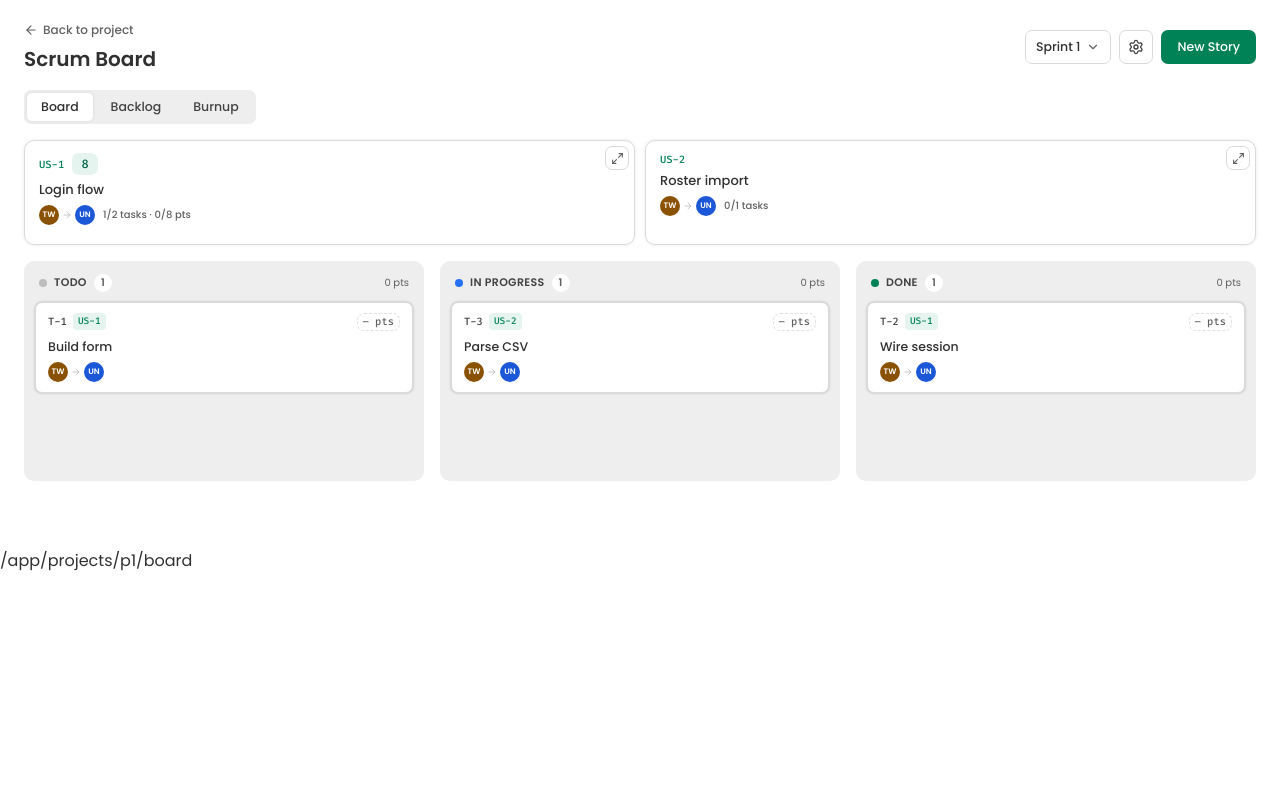
Test: ScrumBoardPage create story (F13) › opens the editor from the header button
This screenshot has width=1280, height=800.
Expected: the text "Login flow" is shown, x1=39 y1=181 x2=104 y2=198
Step 1. Click the button "New Story" → click(1209, 47), box x1=1162 y1=30 x2=1256 y2=64
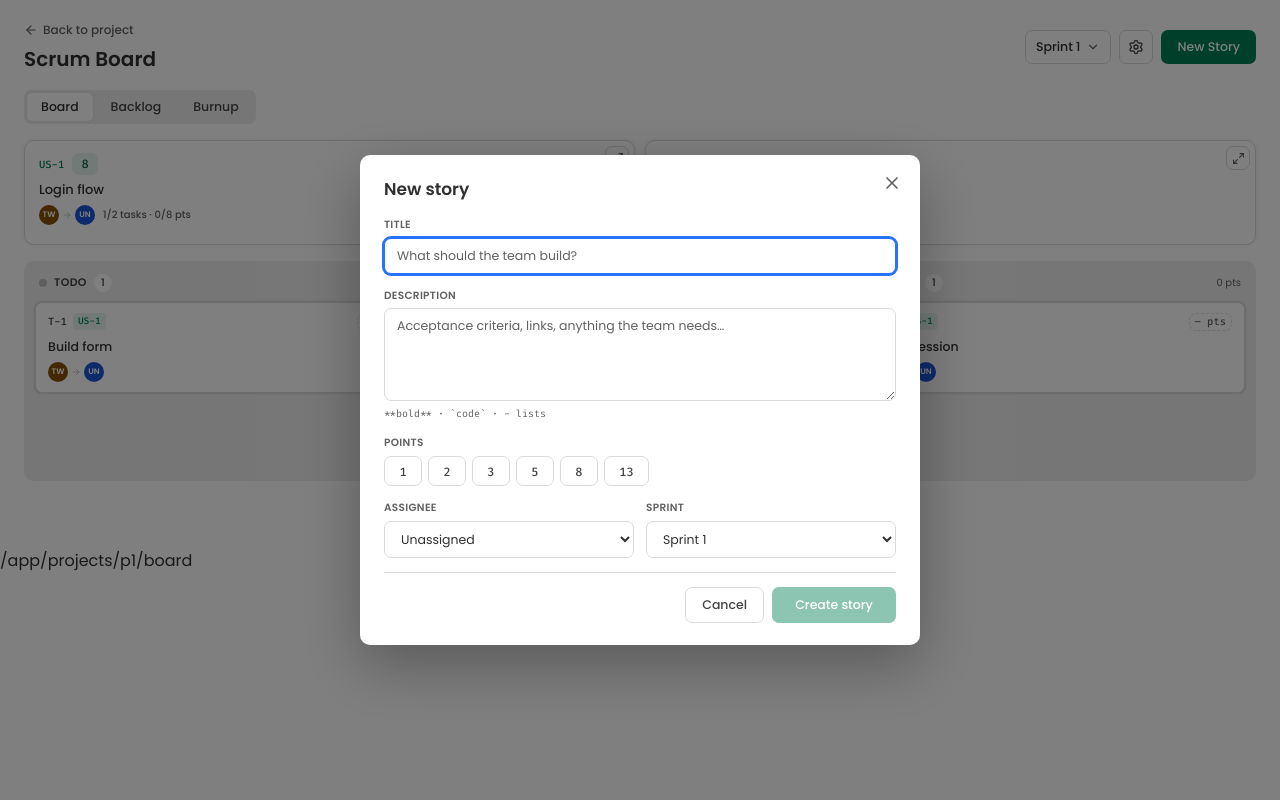
Now the dialog "New story" is shown, box x1=360 y1=155 x2=920 y2=645
